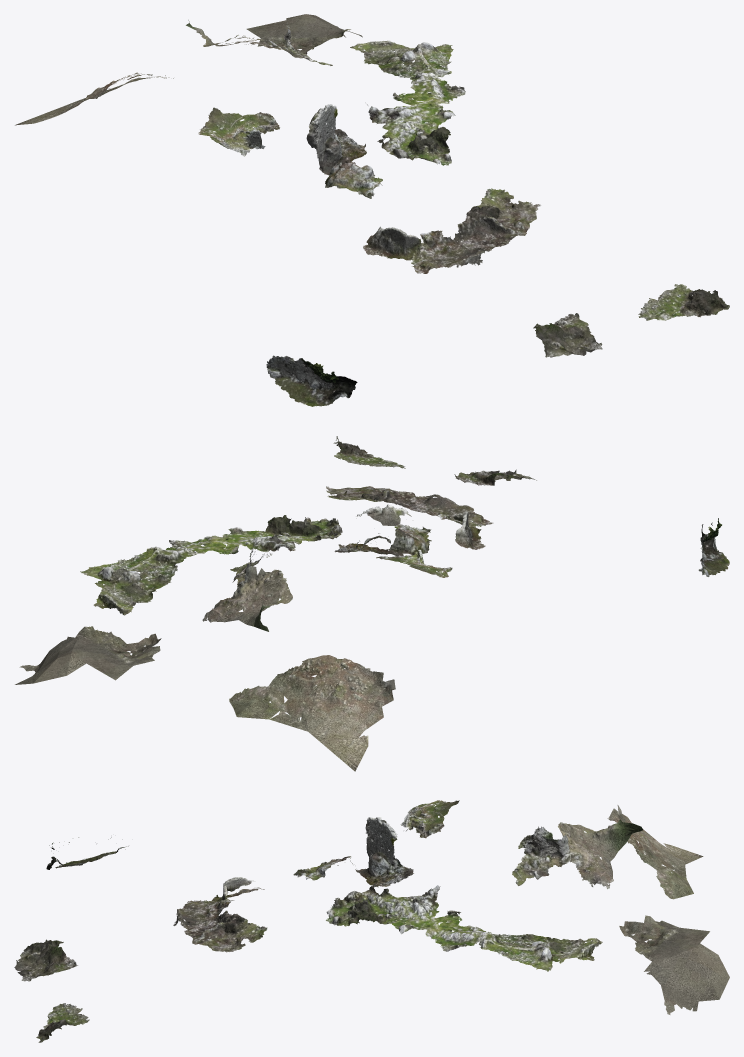
3 renders of one model, top to bottom at view 1: azimuth 30°, elevation 25°; view 2: azimuth 150°, elevation 25°; view 3: azimuth 270°, elevation 25°, orthographic. The views are drawn at different scales.
Bounding box in the file's own units: 54.69 × 18.63 × 85.29.
1 material, 1 textured.
